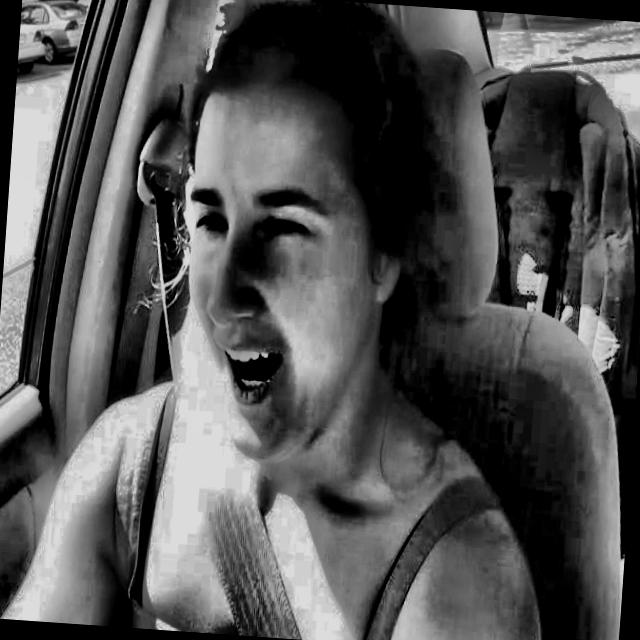closed_eyes: (258, 206, 330, 257), (177, 203, 240, 251)
open_mouth: (204, 325, 306, 427)
